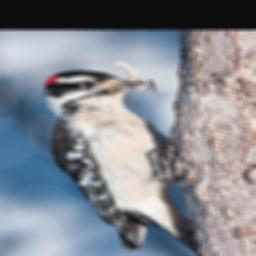Woodpecker: (42, 69, 192, 252)
